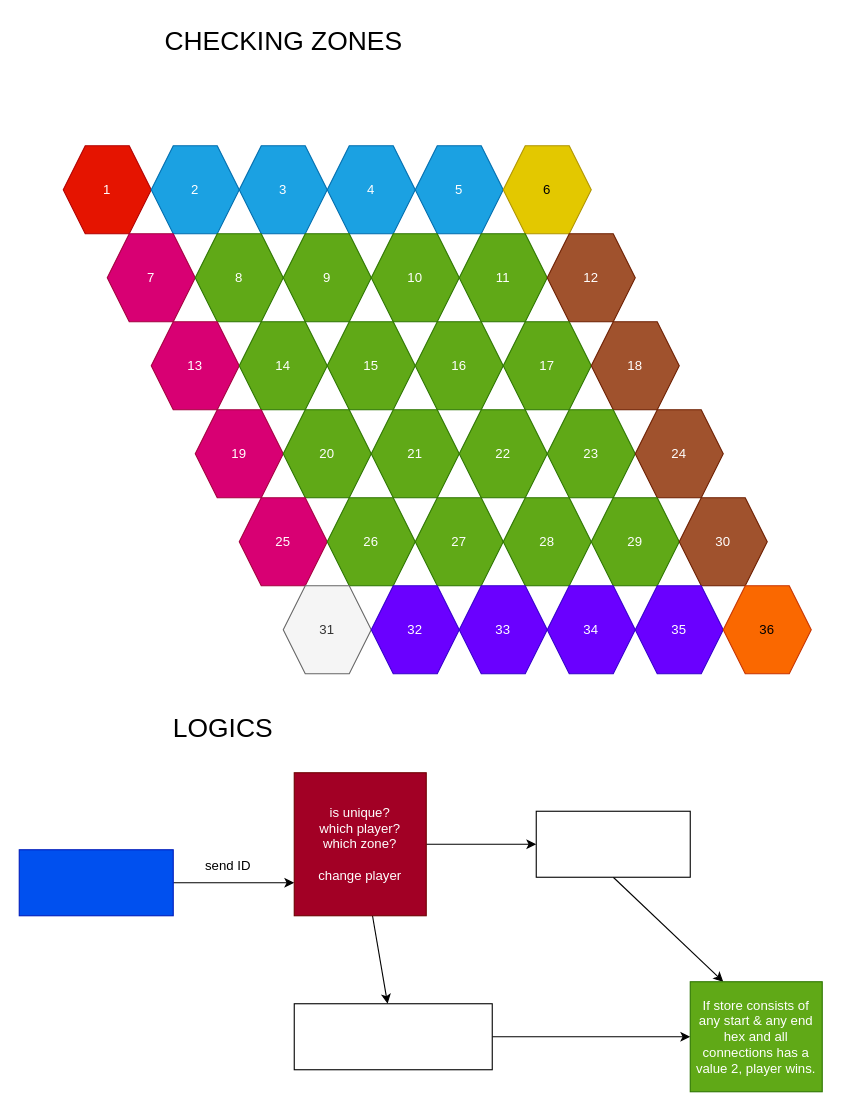
This 842x1111 diagram has some shape labels left out. Each missing label, with the centre of its shape:
check & modify around connections in the players store: the point at 612,843
Click on HEX: the point at 95,882
Send data to the selected players store: the point at 392,1036
